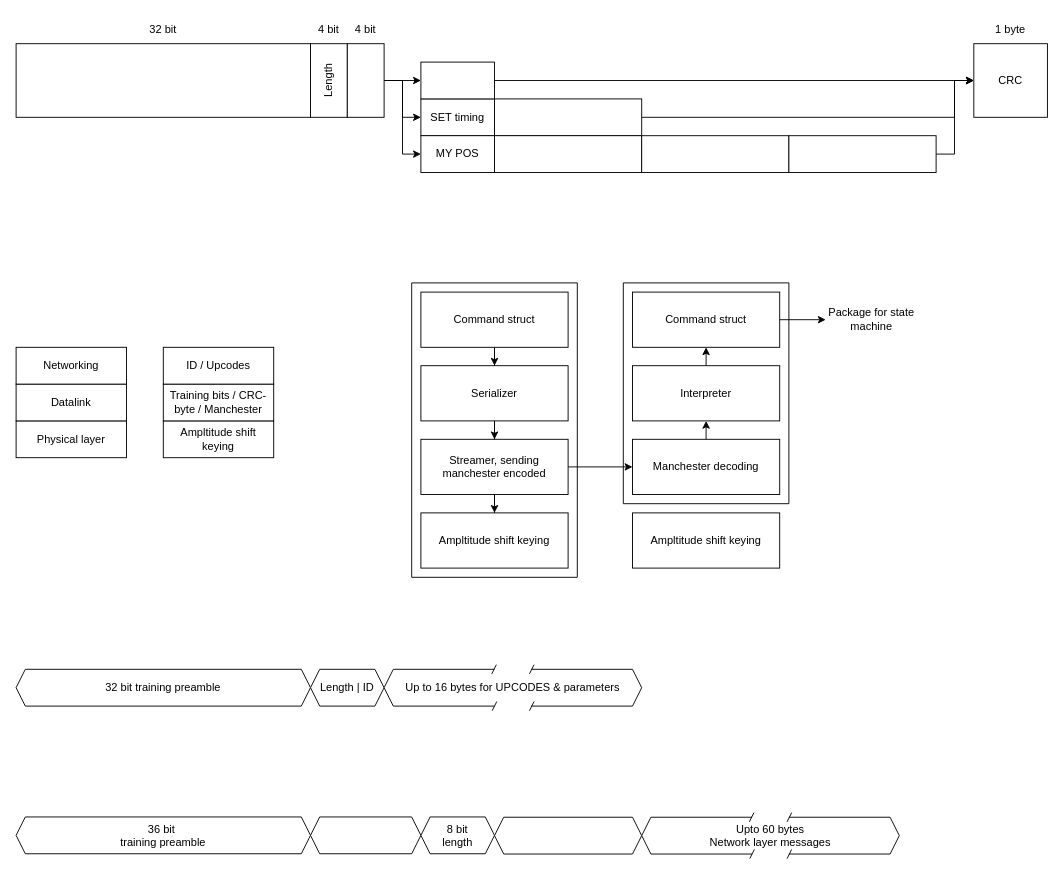
Some shapes in this 1064 by 879 pixel diagram are drawn without their labels. The shapes that lost their labels are listed below. From the top down, each one's box as (x1, y1, x2, y2) in pixels, then its label:
(15, 43, 310, 117): Training bits
(346, 43, 384, 117): ID
(420, 61, 494, 99): PING
(310, 816, 421, 854): 12 bit start symbol
(494, 816, 642, 854): 16 bit CRC
